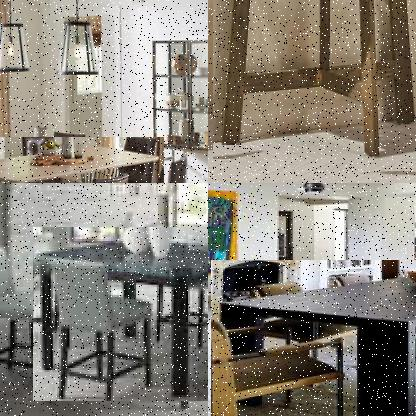table: (213, 0, 415, 161), (211, 259, 415, 415), (33, 227, 207, 403), (0, 137, 166, 182)
